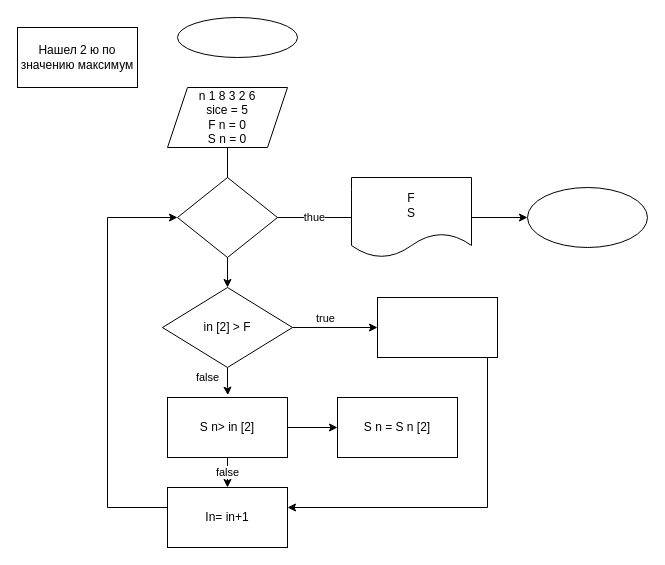
Image size: 665x565. Some labels were removed from this diagram. Each missing label, with the centre of its shape:
end: point (587, 217)
F= n [1]: point (437, 327)
Index > size: point (227, 217)
